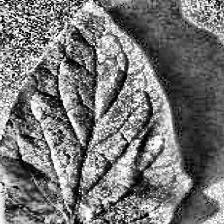spider mites: (0, 0, 186, 224)
